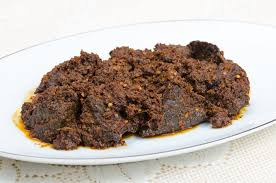rendang: (21, 26, 259, 153)
